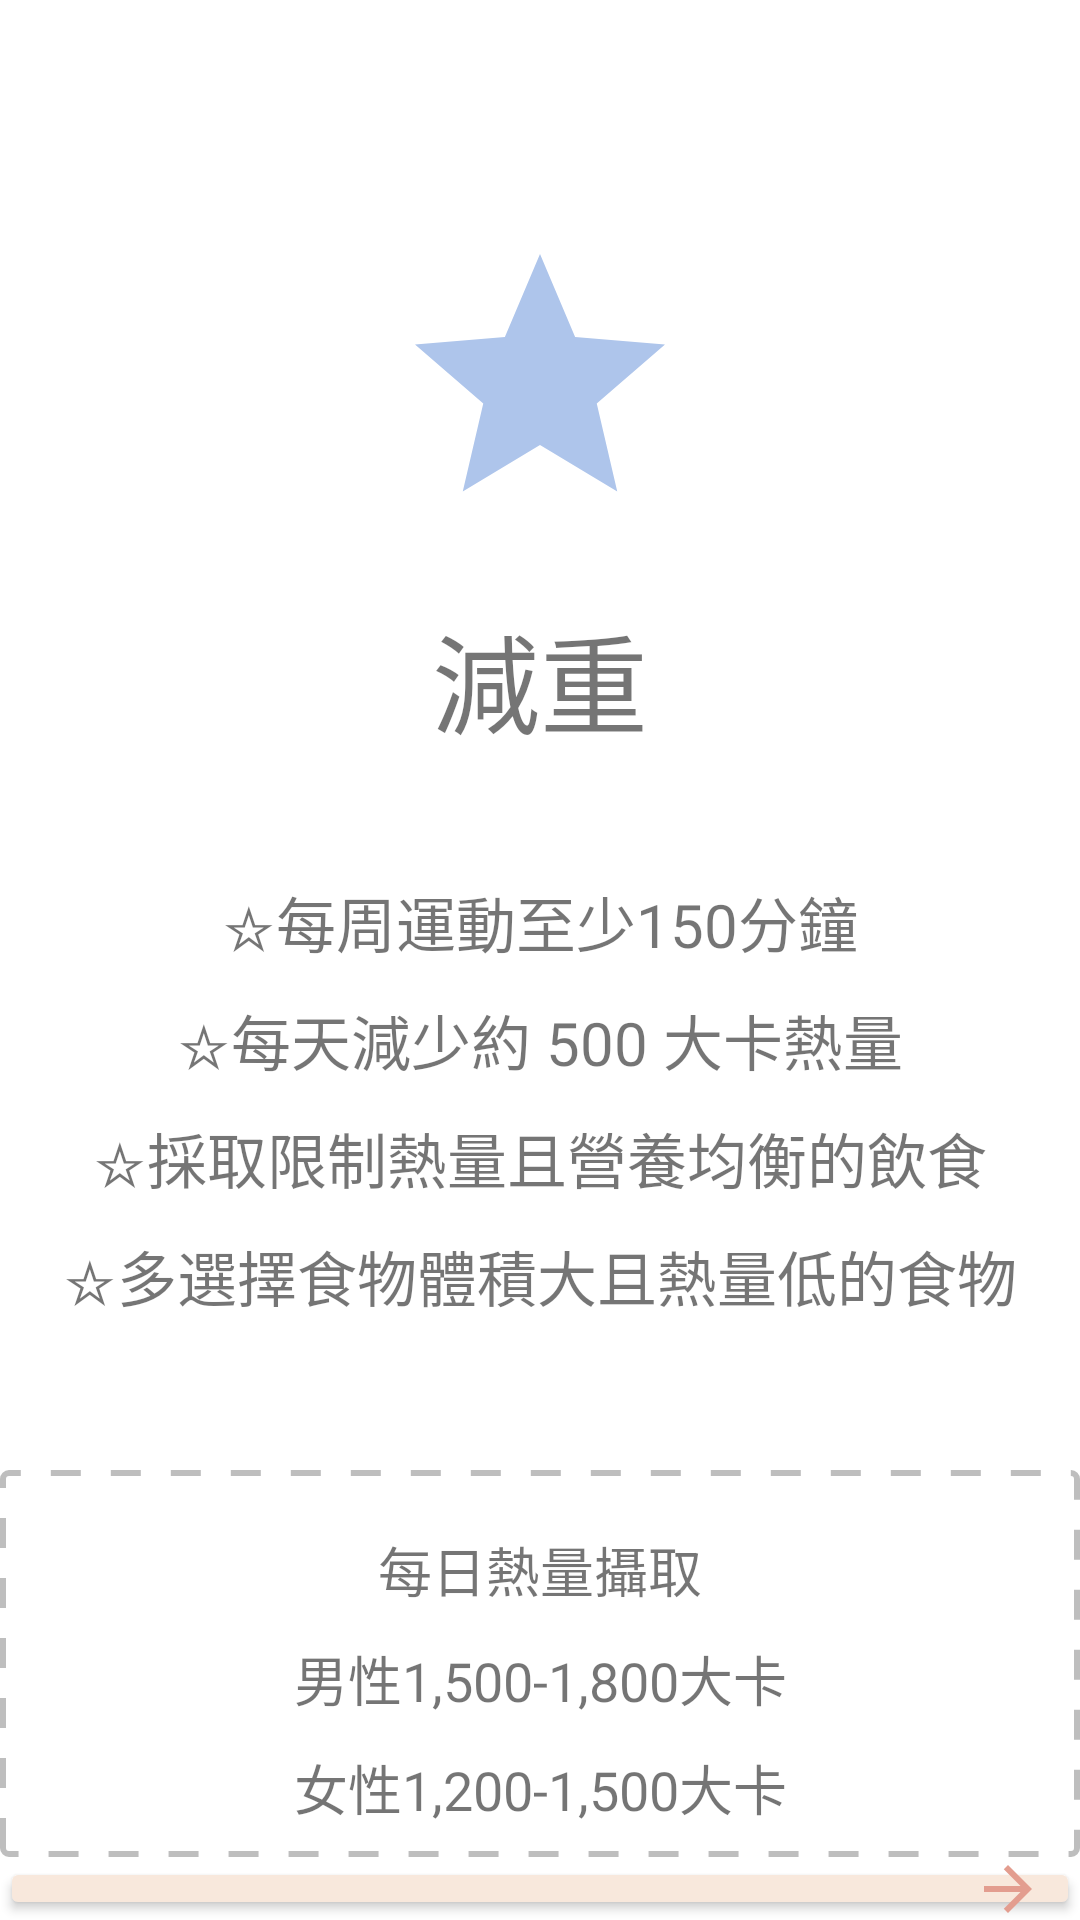

Where to tap for icons on this 1080x1920 app screen, as (x=x, y=y):
star: (x=540, y=373)
